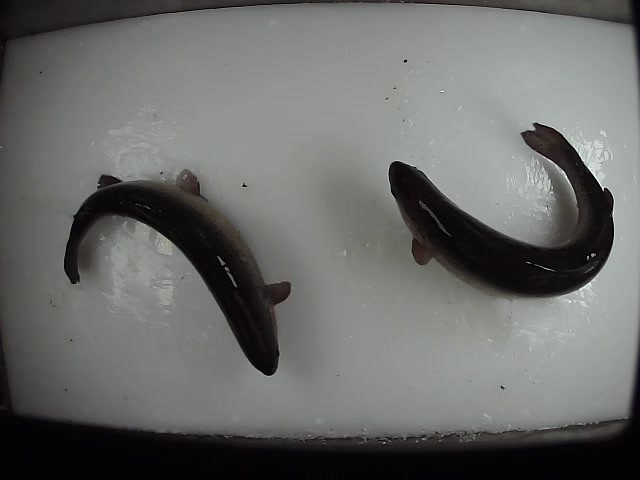fish: (62, 166, 295, 377), (386, 120, 617, 303)
